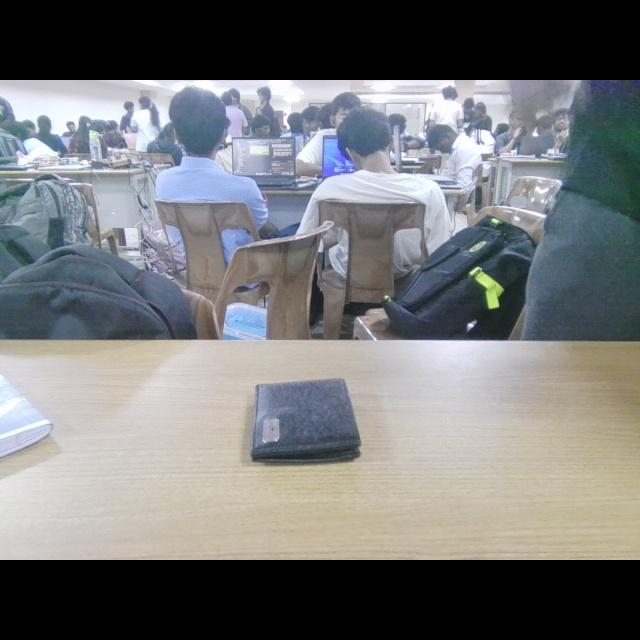wallet: (248, 374, 382, 478)
